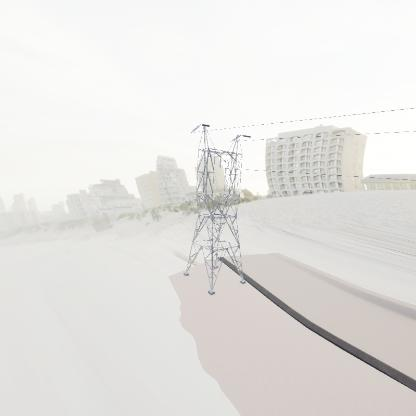tower: (186, 122, 251, 293)
